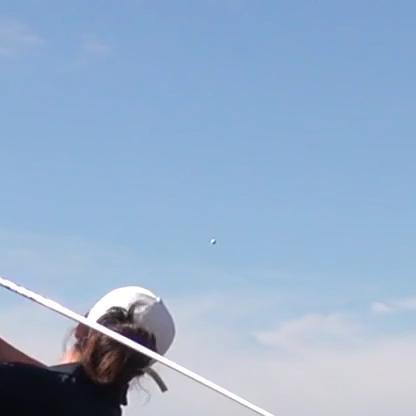golfball: (207, 236, 215, 244)
